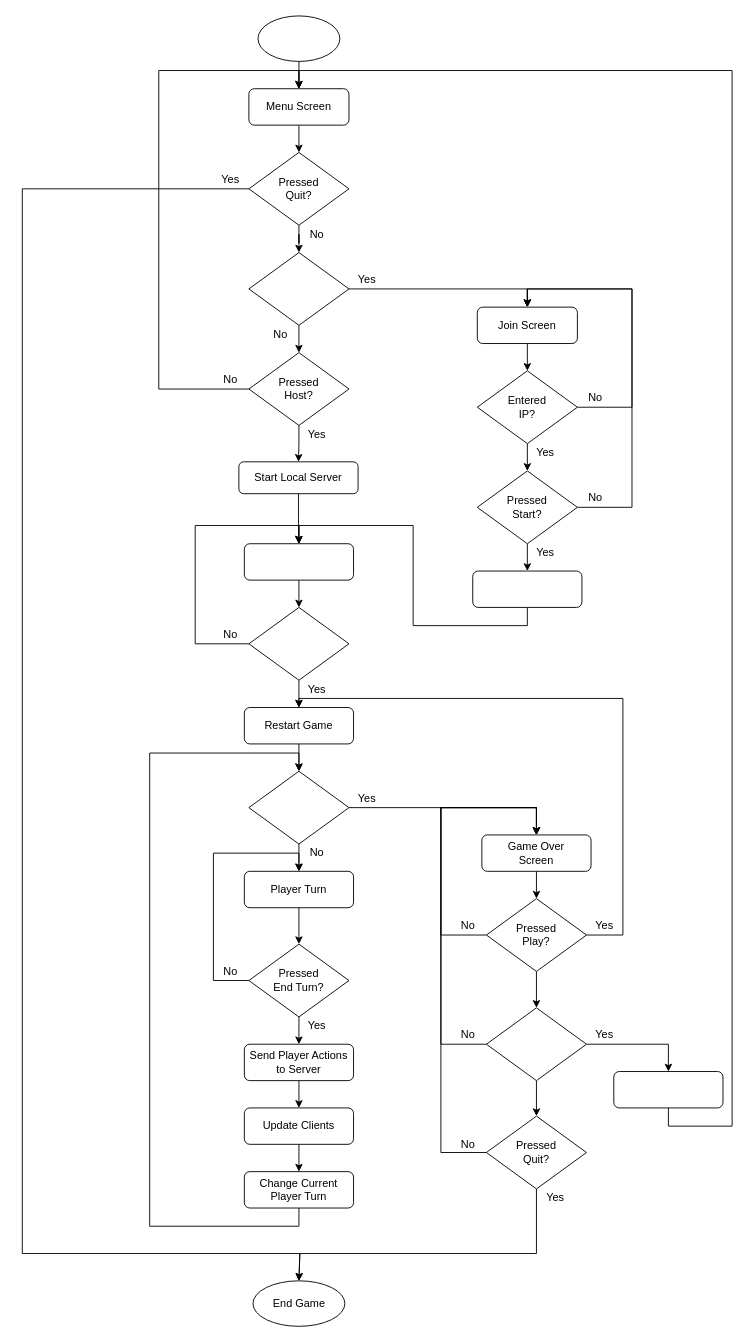
This 755x1342 diagram has some shape labels left out. The centre of each missing label's shape, as x and y in pixels:
"Connect To Server With IP" belongs at point 527,588.
"Game Won?" belongs at point 298,807.
"Lobby Screen" belongs at point 298,561.
"Pressed Join?" belongs at point 298,288.
"Pressed Menu?" belongs at point 535,1044.
"Pressed Start Game?" belongs at point 298,643.
"Start" belongs at point 298,38.
"Stop Server and Disconnect Clients" belongs at point 668,1089.
